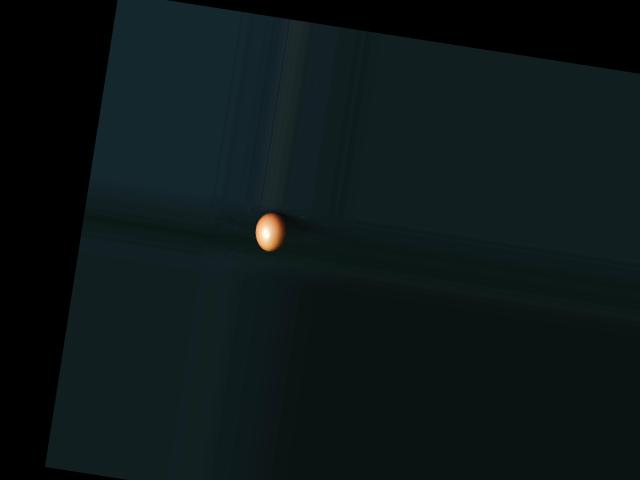egg: (253, 210, 289, 253)
